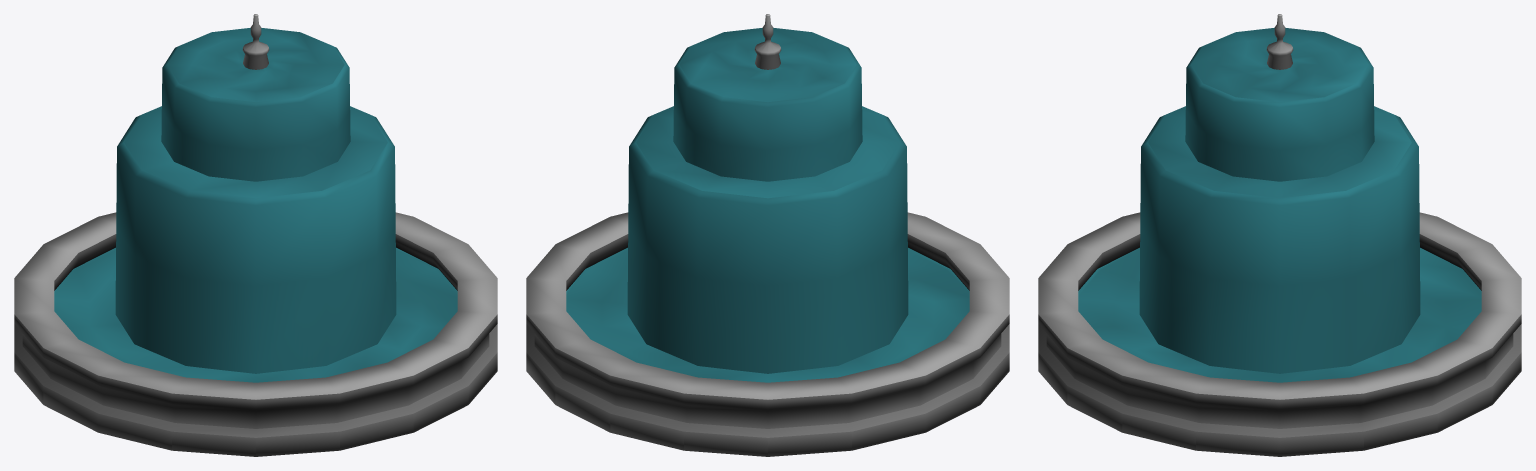
3 views of the same model, side by side, from view 1: azimuth 30°, elevation 25°; view 2: azimuth 150°, elevation 25°; view 3: azimuth 270°, elevation 25° (orthographic).
Visible parts, largest first — view 1: base.020; view 2: base.020; view 3: base.020.
Part boxes in pixels (box(x1,y1,x2,y2)): base.020: box(14, 14, 497, 456); base.020: box(526, 14, 1009, 456); base.020: box(1038, 14, 1521, 456).
Bounding box in the file's own units: 0.5 × 0.3804 × 0.4924.
